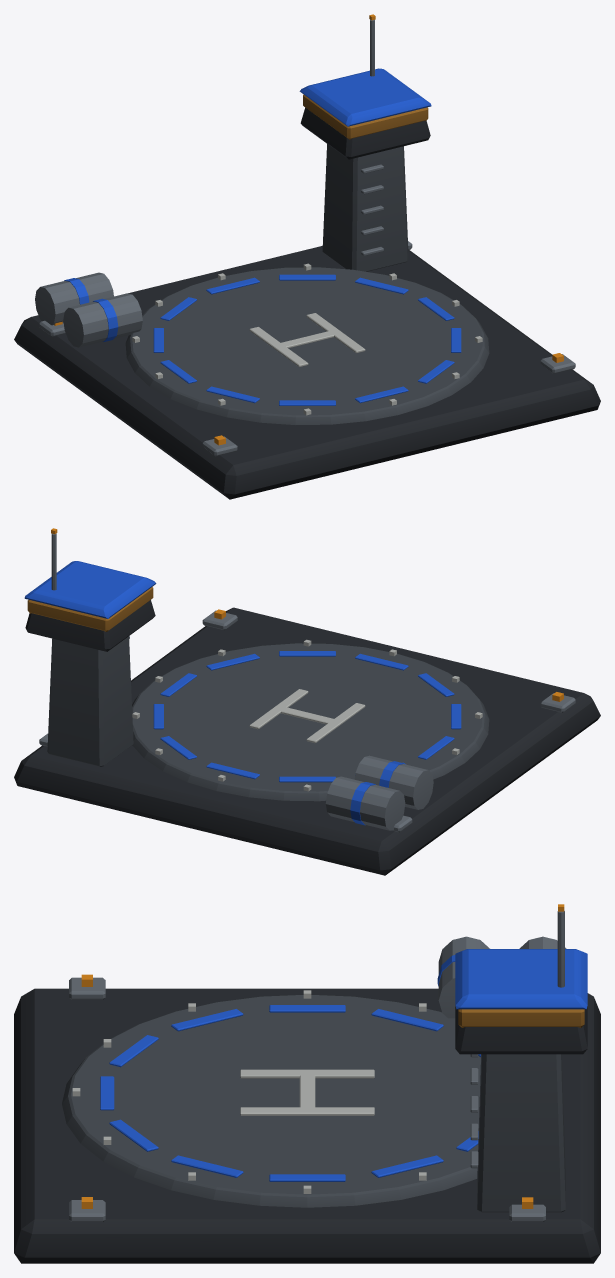
File: airpad.glb
3 renders of one model, top to bottom at view 1: azimuth 30°, elevation 25°; view 2: azimuth 150°, elevation 25°; view 3: azimuth 270°, elevation 25°, orthographic. The views are drawn at different scales.
Visible parts, largest first — view 1: hull; view 2: hull; view 3: hull.
Boxes of the visible parts, x1,y1,x2,y2 form: hull: (14, 14, 600, 499); hull: (14, 528, 600, 875); hull: (14, 904, 600, 1263).
Size of the model in its own units: 1.92 by 1.23 by 1.92.
